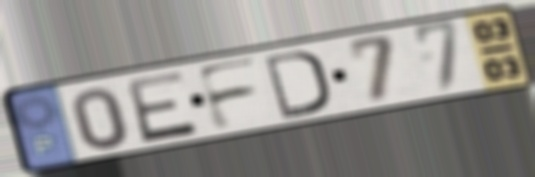0: (67, 83, 133, 153)
7: (345, 30, 405, 107), (410, 16, 463, 100)
D: (261, 47, 331, 122)
E: (123, 68, 202, 146)
F: (192, 55, 262, 135)
